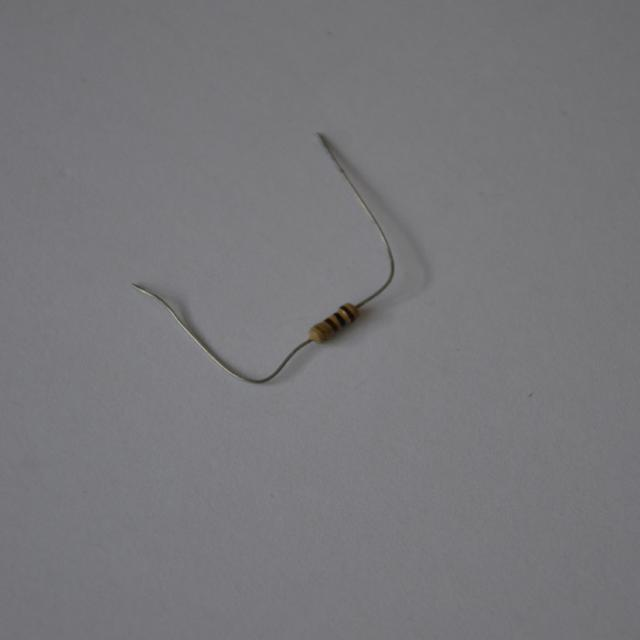black: (333, 313, 347, 326)
brown: (339, 305, 356, 321), (325, 315, 338, 332)
gold: (314, 324, 328, 339)
resistor: (301, 296, 367, 350)
